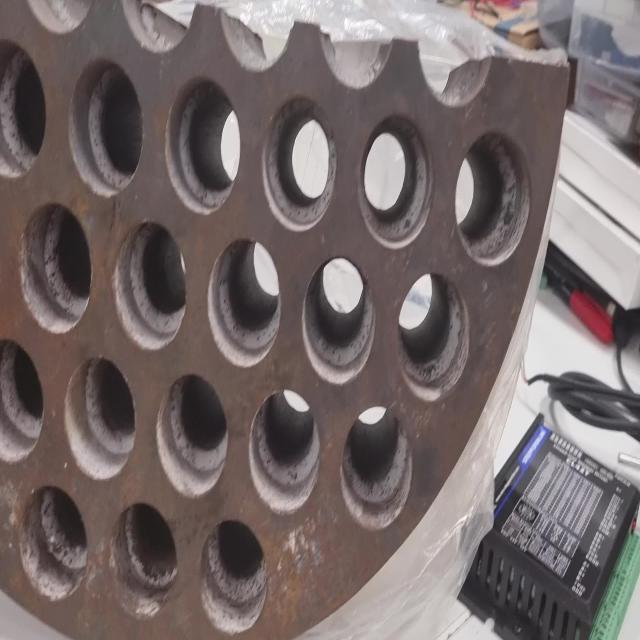Hole: (165, 74, 241, 216), (68, 56, 144, 198), (454, 129, 530, 267), (358, 111, 432, 249), (262, 94, 336, 232), (206, 236, 282, 368), (112, 221, 188, 351), (301, 255, 376, 385), (19, 201, 92, 334), (397, 270, 470, 401), (155, 371, 229, 498), (248, 388, 320, 514), (340, 406, 413, 530), (64, 356, 136, 480), (108, 499, 178, 620), (199, 517, 269, 635), (19, 483, 89, 601), (0, 38, 47, 179), (0, 336, 44, 464)
